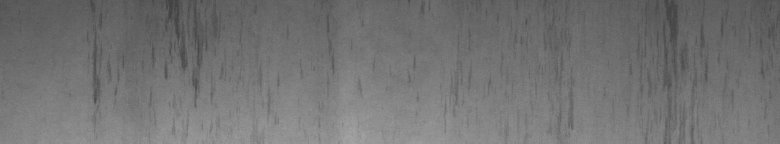ka: (165, 4, 200, 98)
